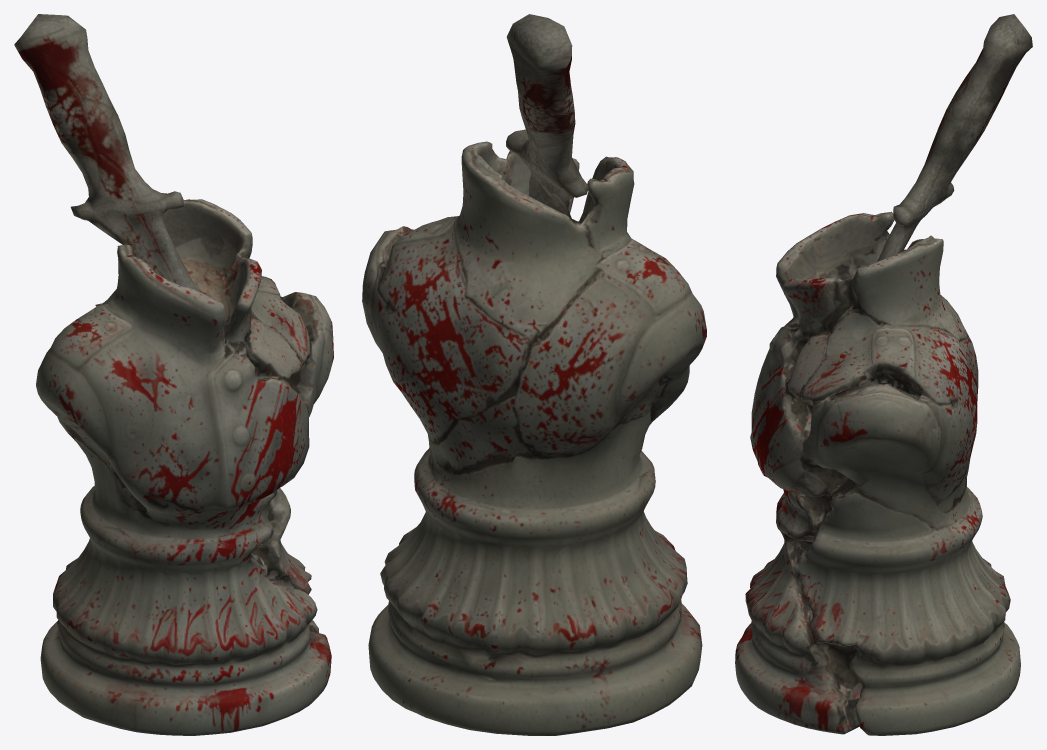
The model's file is Criminal_Body.fbx.
The picture shows the model from 3 angles, left to right: view 1: azimuth 30°, elevation 25°; view 2: azimuth 150°, elevation 25°; view 3: azimuth 270°, elevation 25°; orthographic projection. The views are drawn at different scales.
Visible parts, largest first — view 1: Criminal_Body; view 2: Criminal_Body; view 3: Criminal_Body.
Part boxes in pixels (left/top/right/bottom): Criminal_Body: left=14, top=14, right=333, bottom=735; Criminal_Body: left=362, top=14, right=706, bottom=735; Criminal_Body: left=735, top=14, right=1032, bottom=735.
Size of the model in its own units: 63.57 by 138 by 59.46.
